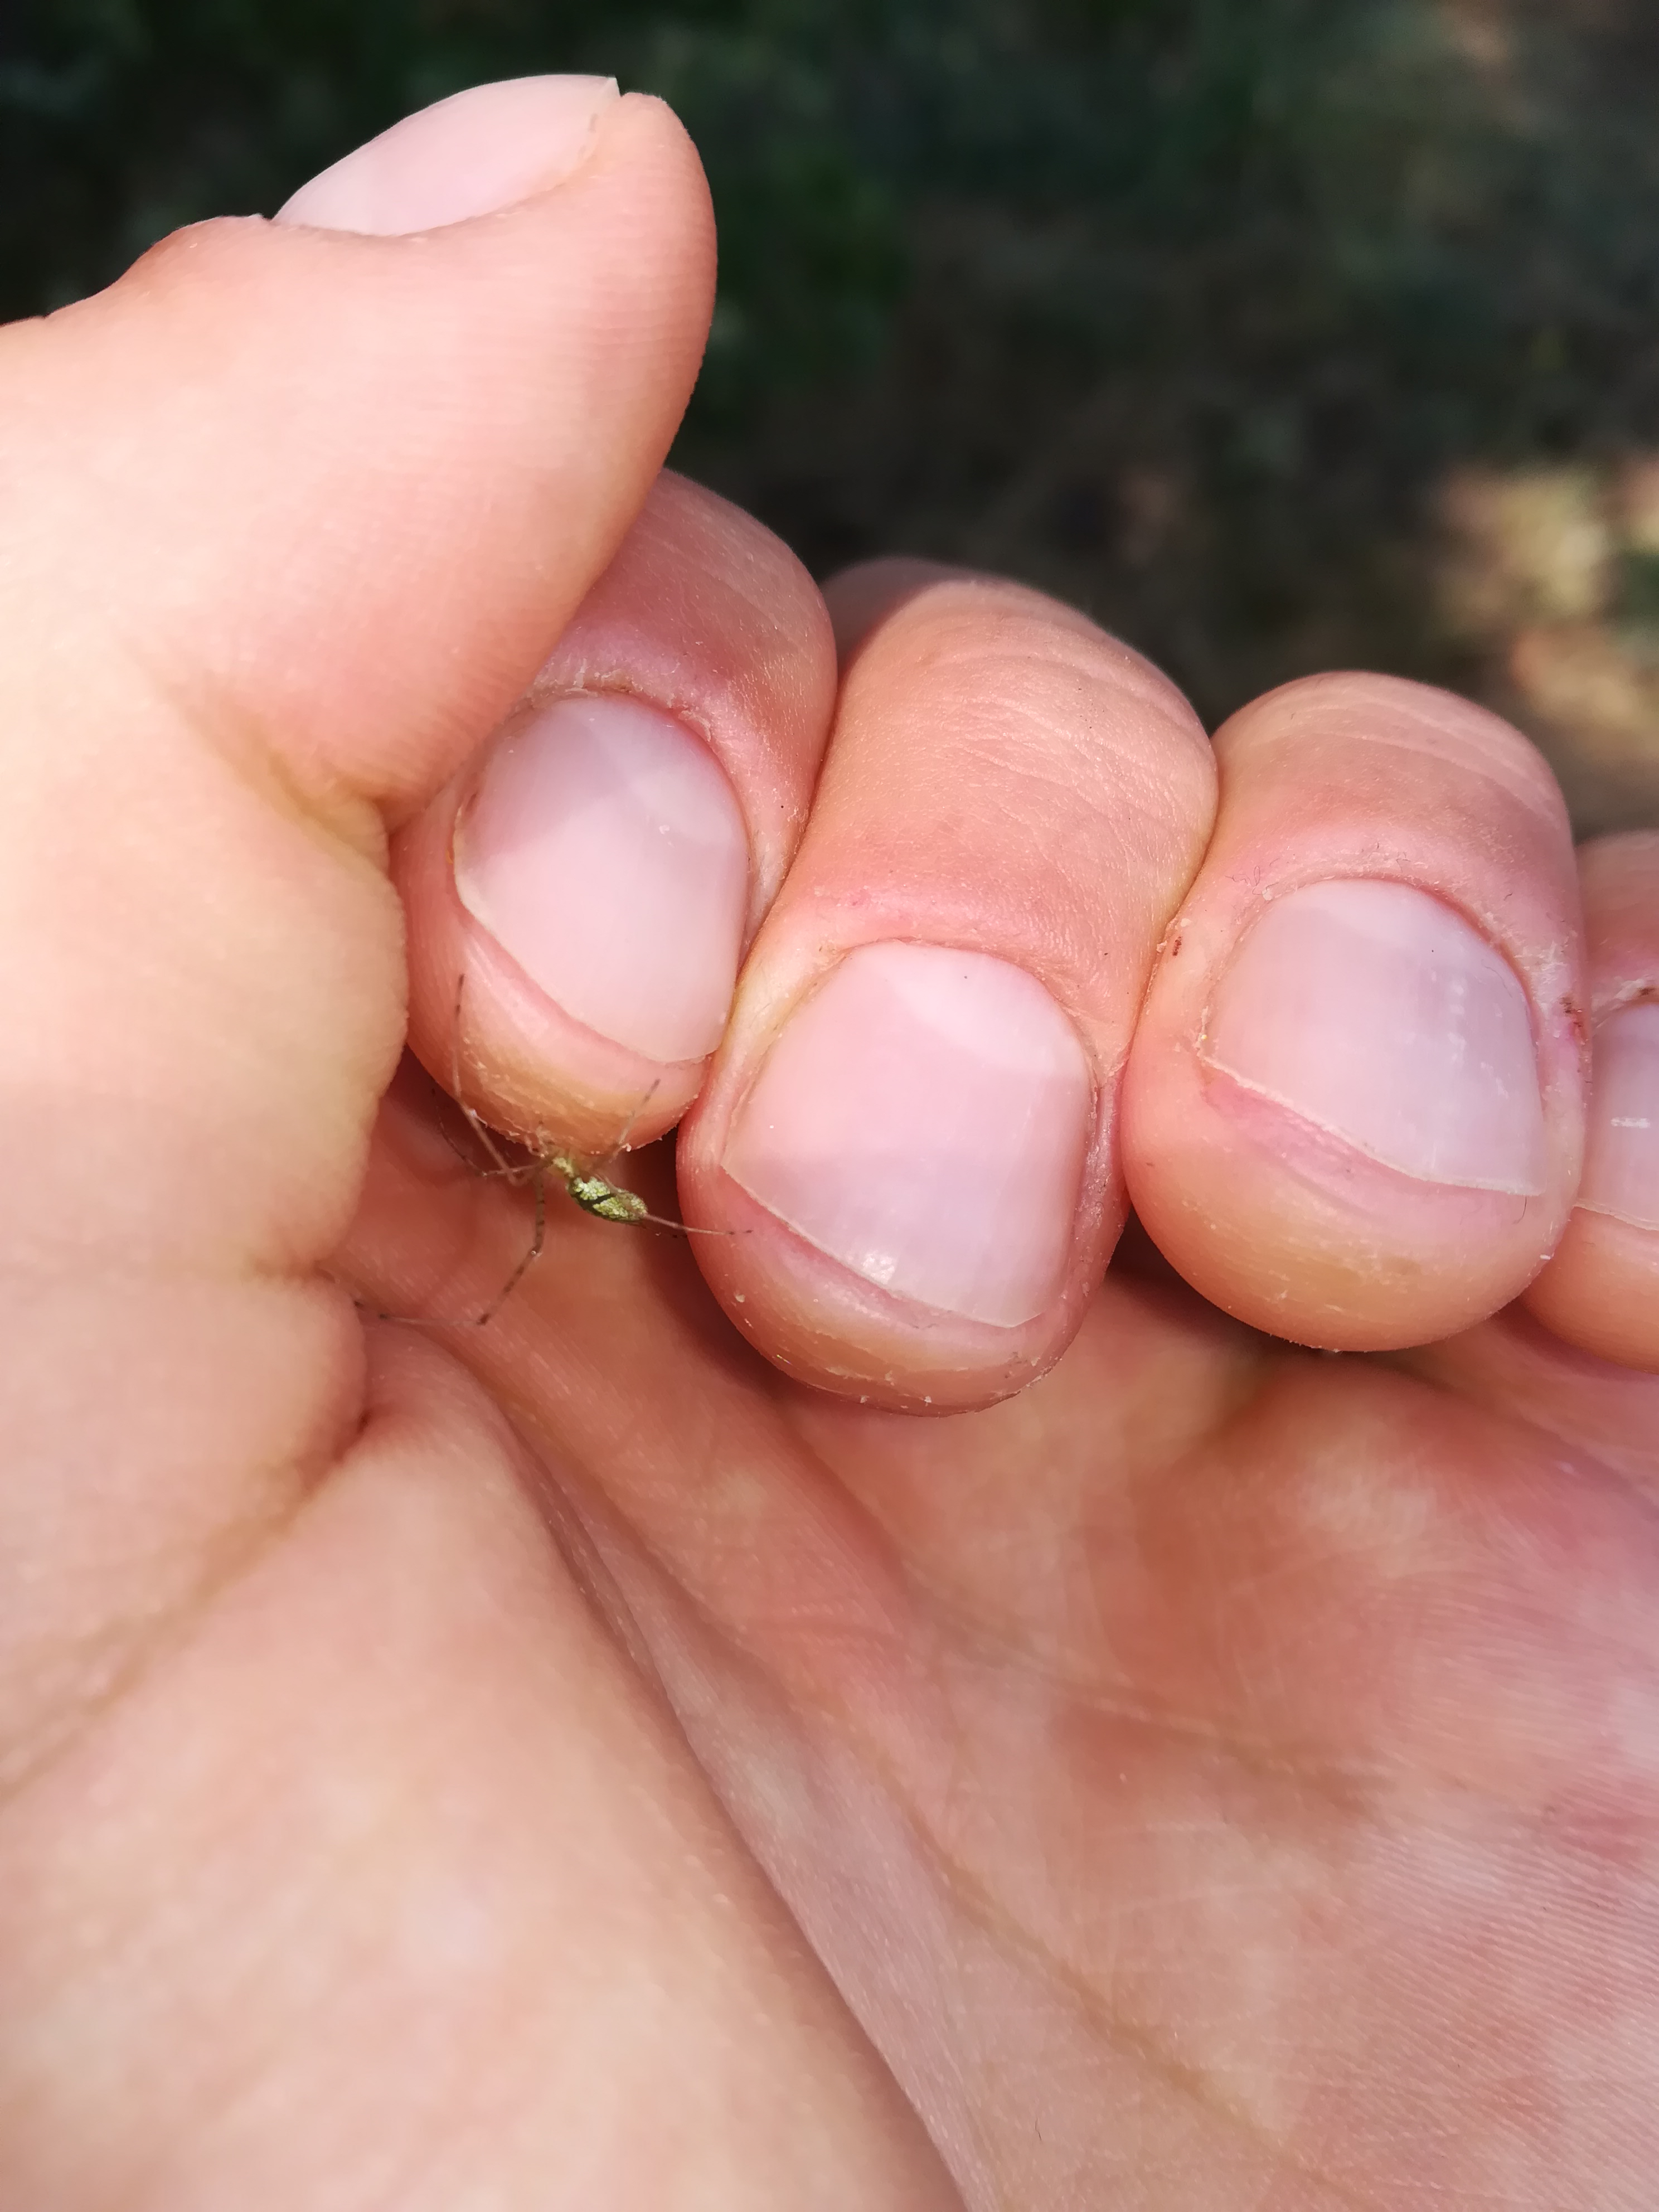spider: (362, 906, 784, 1345)
